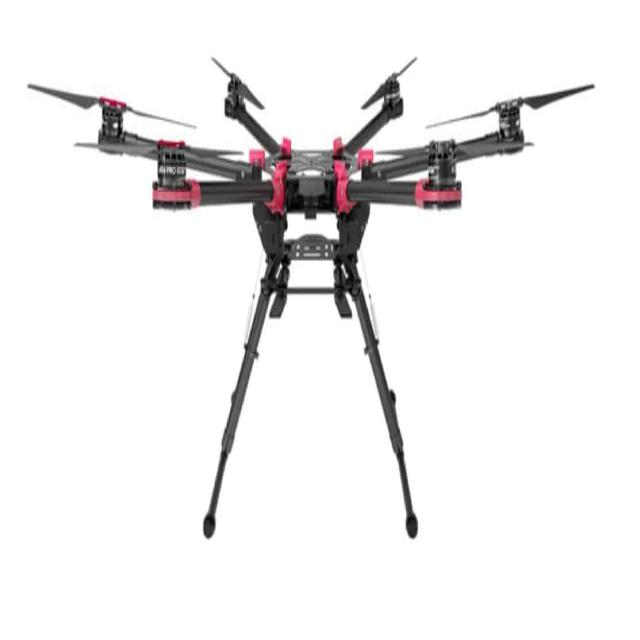drone: (4, 0, 640, 517)
